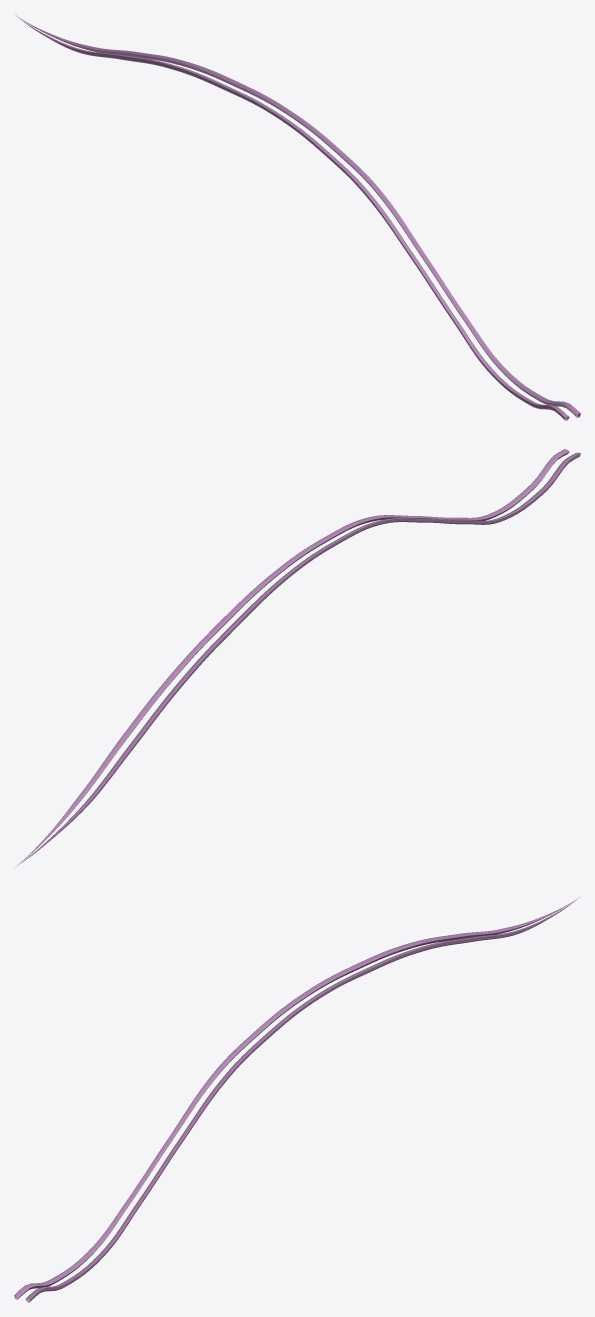
The picture shows the model from 3 angles, top to bottom: view 1: azimuth 30°, elevation 25°; view 2: azimuth 150°, elevation 25°; view 3: azimuth 330°, elevation 25°; orthographic projection.
Visible parts, largest first — view 1: 脊髓前角; view 2: 脊髓前角; view 3: 脊髓前角.
Part boxes in pixels (bbox=[...]): 脊髓前角: bbox=[14, 14, 580, 420]; 脊髓前角: bbox=[14, 449, 580, 867]; 脊髓前角: bbox=[14, 896, 580, 1302].
Bounding box in the file's own units: 0.012 × 0.0771 × 0.7213.
